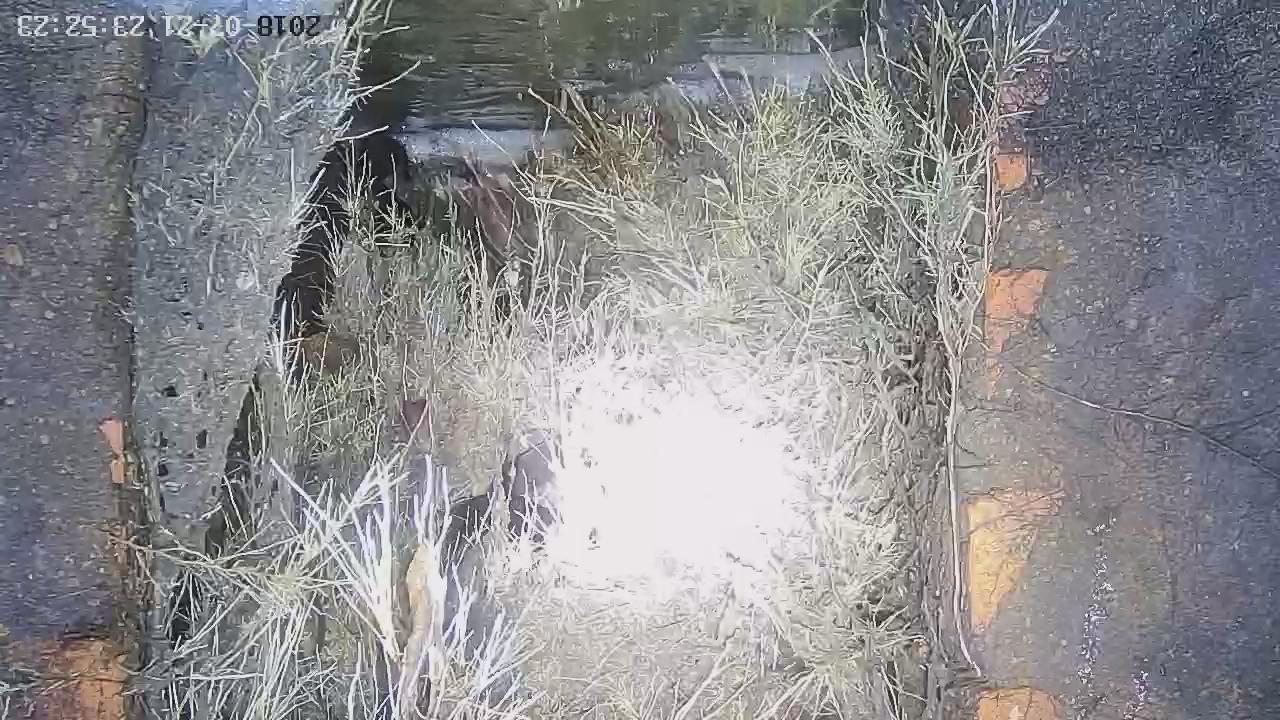SG: (141, 1, 1054, 720), (117, 1, 1016, 720), (151, 5, 1025, 720)
